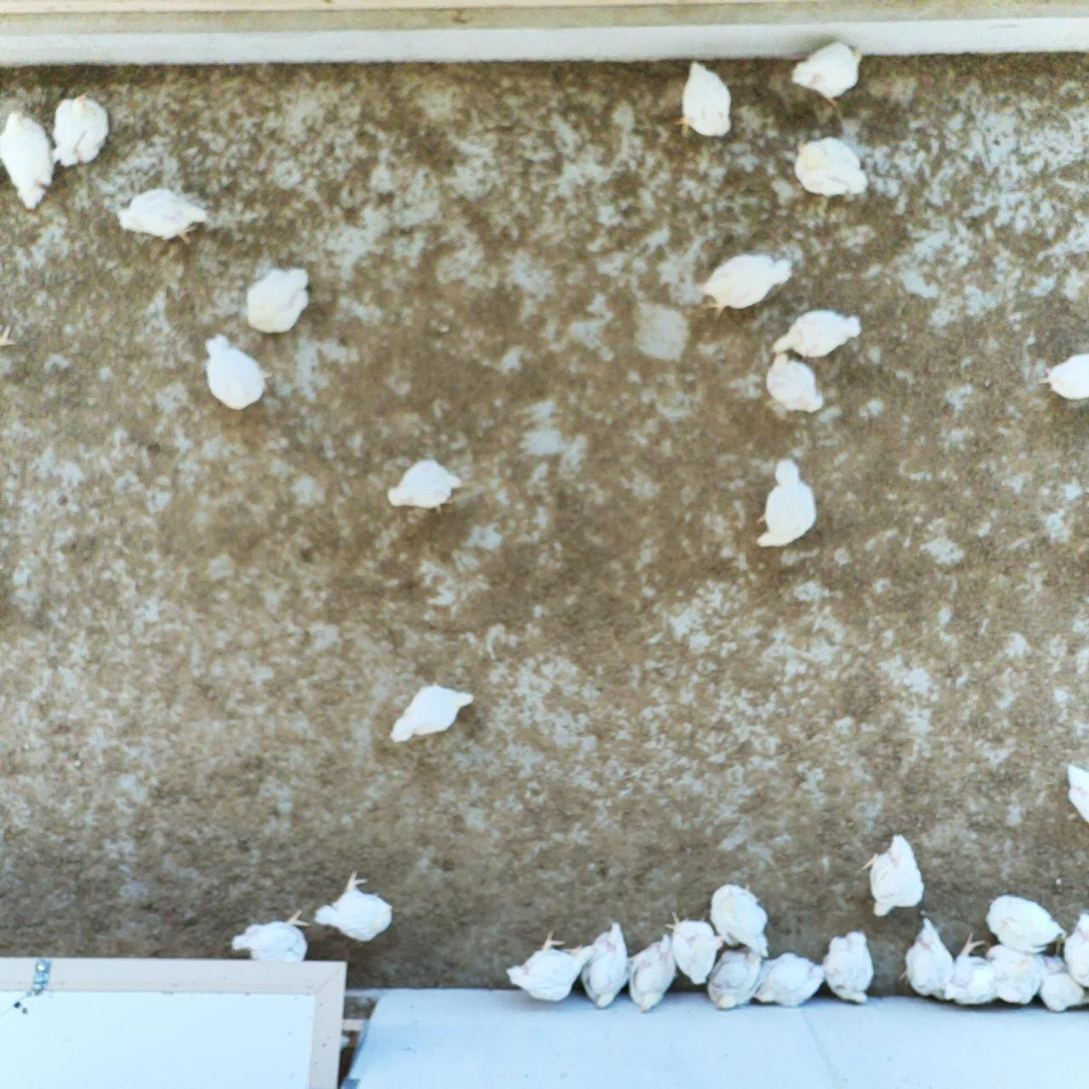chicken: (700, 253, 797, 321), (0, 101, 58, 210), (504, 928, 587, 1004), (756, 454, 819, 552), (312, 870, 393, 943), (668, 56, 736, 141), (200, 331, 274, 409), (115, 187, 211, 247), (390, 680, 475, 747), (860, 834, 927, 917), (245, 261, 316, 338), (791, 133, 870, 201), (984, 890, 1067, 953), (768, 309, 866, 362), (711, 881, 774, 962), (791, 41, 868, 105), (233, 913, 312, 975), (48, 95, 114, 168), (901, 914, 956, 1001), (623, 928, 678, 1014), (387, 453, 462, 516), (580, 920, 632, 1010), (990, 942, 1058, 1008), (667, 910, 723, 989), (748, 952, 824, 1010), (707, 941, 768, 1013), (765, 348, 826, 417), (943, 934, 1001, 1006), (823, 927, 873, 1007), (1038, 348, 1089, 406), (1061, 907, 1089, 991), (1037, 967, 1089, 1012), (1063, 759, 1089, 828)
